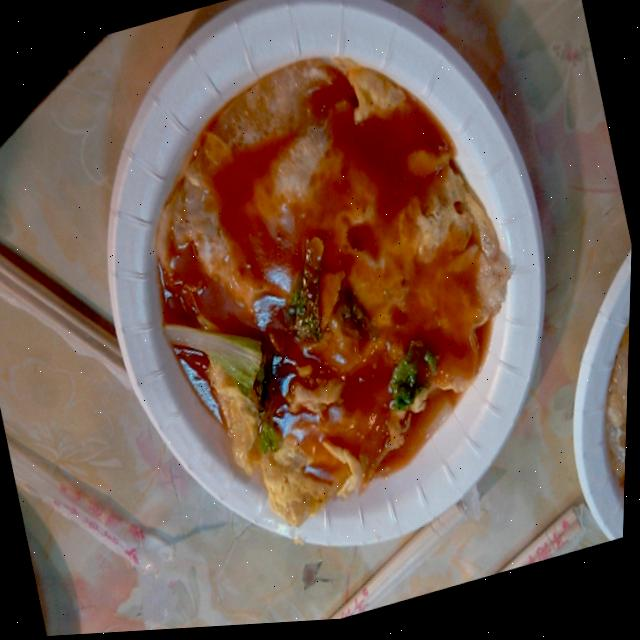熟制海鲜: (47, 0, 604, 606)
